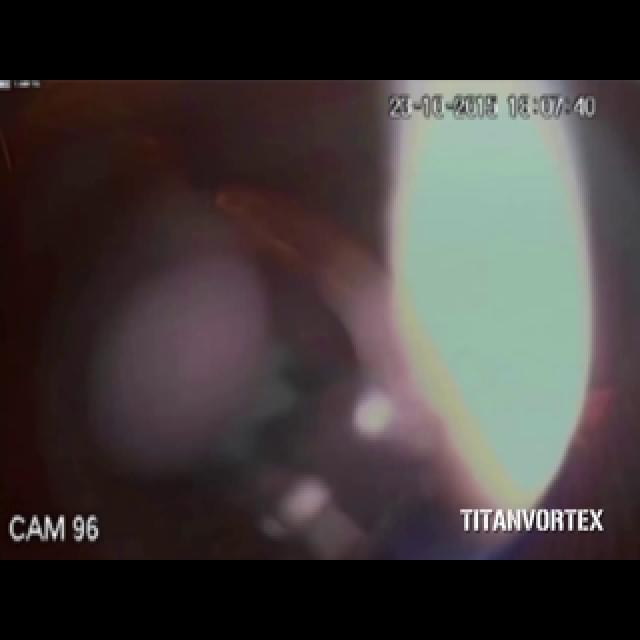arson: (20, 31, 633, 543)
